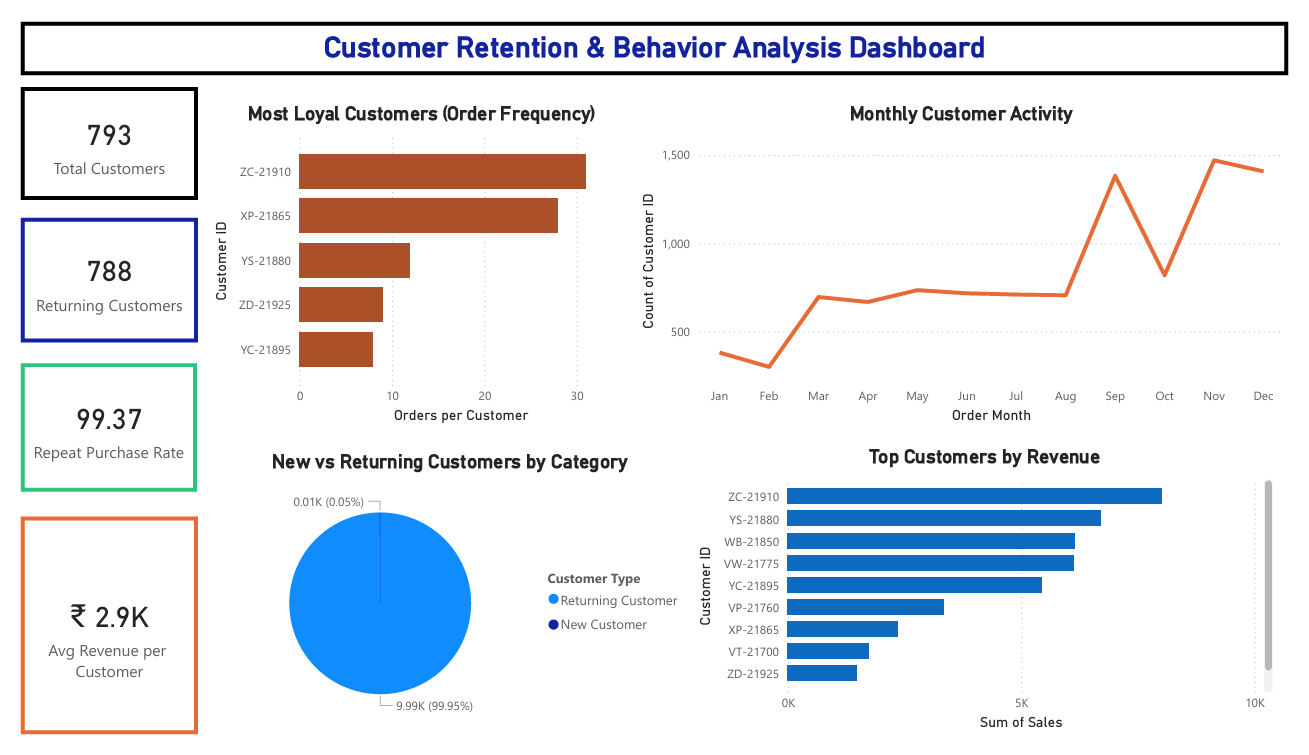

The page's visual inventory and layout, read from the dashboard file:
{"tool":"powerbi","page":{"name":"Customer Retention & Behavior Analysis Dashboard","canvas":[1280,720],"ordinal":0},"visuals":[{"type":"card","fields":{"Values":["Superstore.Returning Customers"]},"box":[0,197.5,178.8,126.2],"z":1000},{"type":"card","fields":{"Values":["Superstore.Repeat Purchase Rate"]},"box":[0,345,177.5,130],"z":2000},{"type":"card","fields":{"Values":["Superstore.Total Customers"]},"box":[0,66.2,178.8,113.8],"z":2500},{"type":"card","fields":{"Values":["Superstore.Avg Revenue per Customer"]},"box":[0,500,178.8,220],"z":3000},{"type":"pieChart","title":"New vs Returning Customers by Category","fields":{"Y":["CountNonNull(Superstore.Category)"],"Category":["Superstore.Customer Type"]},"box":[188.8,432.5,488.8,287.5],"z":4000},{"type":"barChart","title":"Top Customers by Revenue","fields":{"Category":["Superstore.Customer ID"],"Y":["Sum(Superstore.Sales)"]},"box":[677.9,428.1,591.4,292.3],"z":5000},{"type":"barChart","title":"Most Loyal Customers (Order Frequency)","fields":{"Category":["Superstore.Customer ID"],"Y":["Superstore.Orders per Customer"]},"box":[188.8,81.2,431.2,328.8],"z":6000},{"type":"lineChart","title":"Monthly Customer Activity","fields":{"Category":["Superstore.Order Month"],"Y":["CountNonNull(Superstore.Customer ID)"]},"box":[620.2,81,660,329.3],"z":7000},{"type":"textbox","box":[0,0,1280.3,53.5],"z":8000}]}

Visuals, with their boxes in screenshot pixels (x1, y1, x2, y2), scaled from the page's 1280x720 canvas onto the 1309x755 screenshot:
card - Superstore.Returning Customers: (x1=0, y1=207, x2=183, y2=339)
card - Superstore.Repeat Purchase Rate: (x1=0, y1=362, x2=182, y2=498)
card - Superstore.Total Customers: (x1=0, y1=69, x2=183, y2=189)
card - Superstore.Avg Revenue per Customer: (x1=0, y1=524, x2=183, y2=754)
"New vs Returning Customers by Category" pieChart: (x1=193, y1=454, x2=693, y2=754)
"Top Customers by Revenue" barChart: (x1=693, y1=449, x2=1298, y2=754)
"Most Loyal Customers (Order Frequency)" barChart: (x1=193, y1=85, x2=634, y2=430)
"Monthly Customer Activity" lineChart: (x1=634, y1=85, x2=1308, y2=430)
textbox: (x1=0, y1=0, x2=1308, y2=56)
